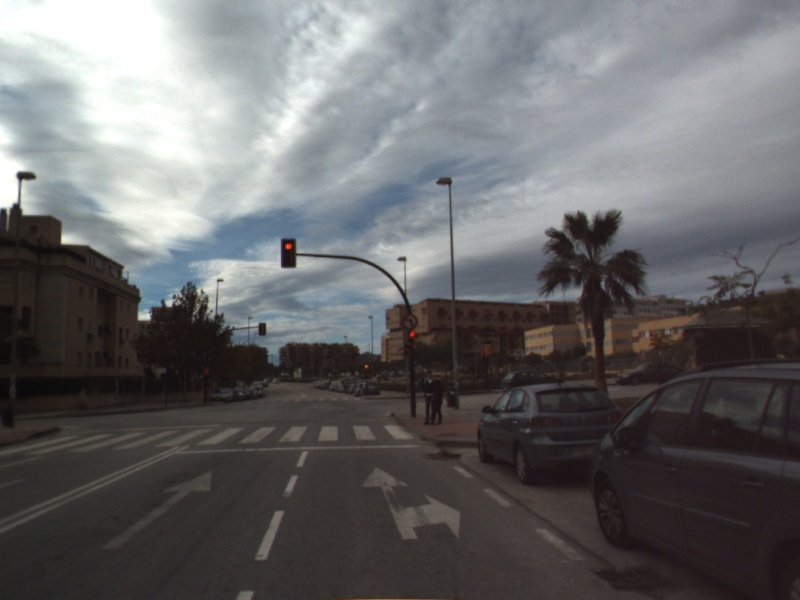STRAIGHT: (99, 469, 214, 551)
STRAIGHT_RIGHT: (360, 464, 462, 541)
